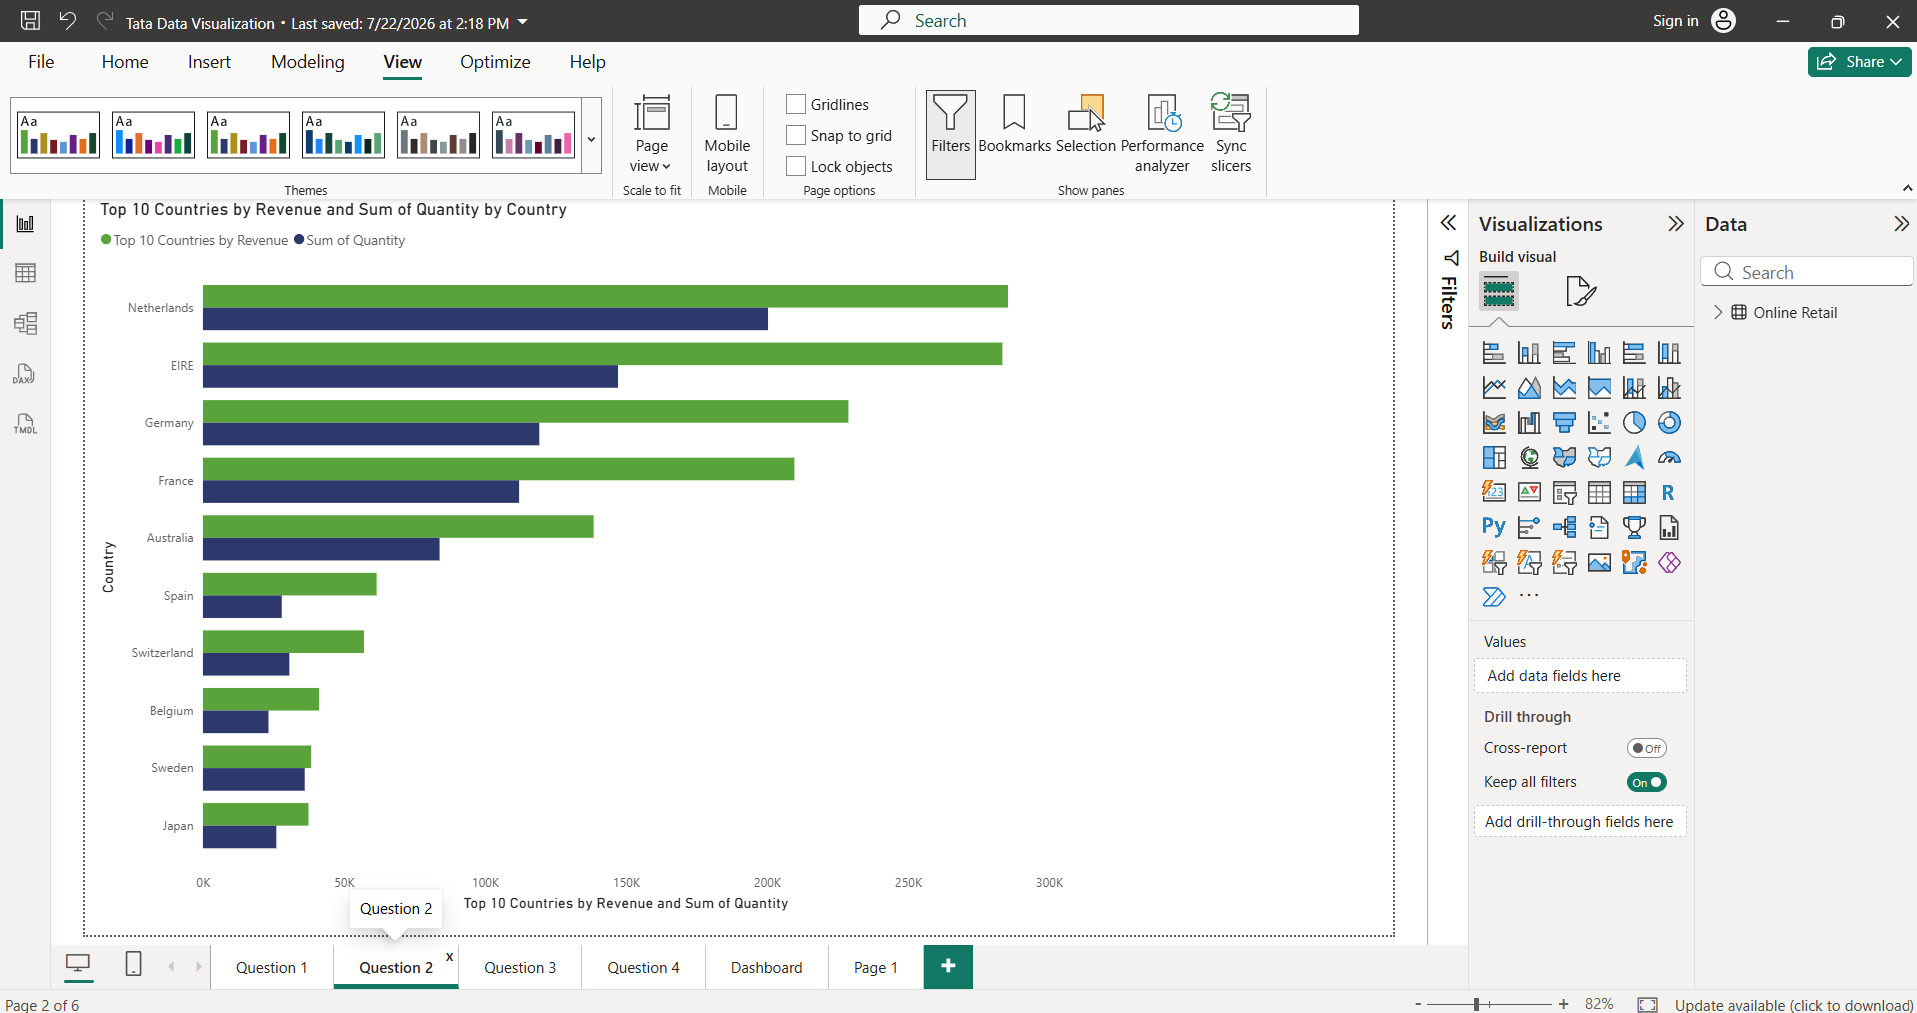

The page's visual inventory and layout, read from the dashboard file:
{"tool":"powerbi","page":{"name":"Question 2","canvas":[1280,720],"ordinal":1},"visuals":[{"type":"clusteredBarChart","fields":{"Y":["Sum(Online Retail.Revenue)","Sum(Online Retail.Quantity)"],"Category":["Online Retail.Country"]},"box":[10,0,952.5,701.2],"z":0}]}

Visuals, with their boxes on the page's 1280x720 design canvas (x1, y1, x2, y2). These are canvas units, not pixel positions in the 1917x1013 screenshot, which may show the page scaled, cropped or inside an application window:
clusteredBarChart - Sum(Online Retail.Revenue) x Sum(Online Retail.Quantity): bbox=[10, 0, 962, 701]
